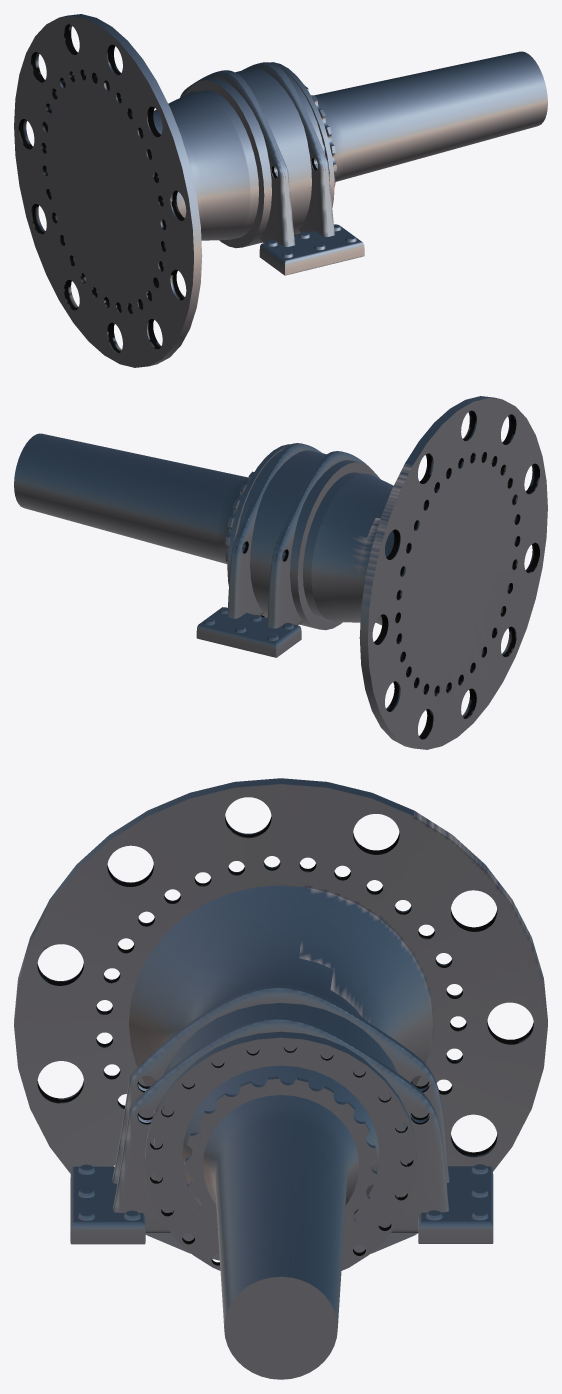
File: zhuzhou.glb
3 views of the same model, one above another, from view 1: azimuth 30°, elevation 25°; view 2: azimuth 150°, elevation 25°; view 3: azimuth 270°, elevation 25° (orthographic). The views are drawn at different scales.
Parts seen in each view (by area): view 1: 主轴; view 2: 主轴; view 3: 主轴.
Part boxes in pixels (bbox=[...]): 主轴: bbox=[14, 14, 547, 367]; 主轴: bbox=[14, 396, 547, 749]; 主轴: bbox=[14, 778, 547, 1379].
Bounding box in the file's own units: 13.94 × 10.23 × 10.23.
Materials: 10 (10 with a texture image).
